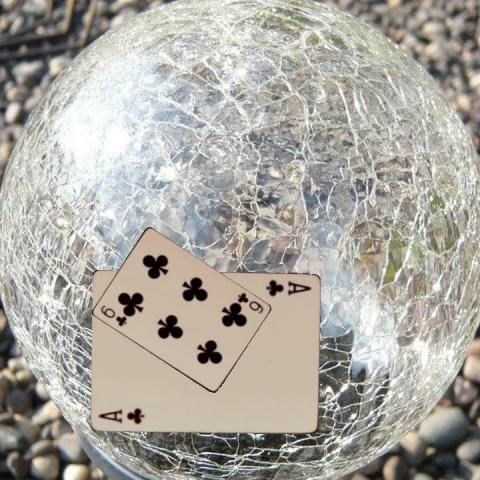6c: (97, 302, 128, 328), (234, 289, 265, 315)
Ac: (96, 406, 146, 426), (263, 277, 312, 297)
